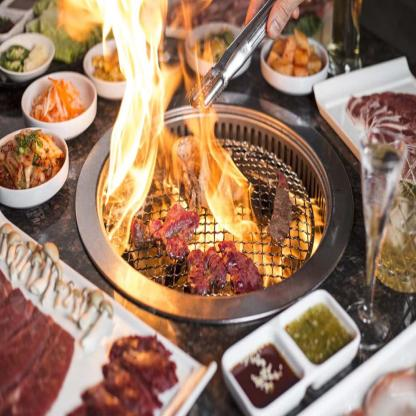fire: (75, 0, 325, 286)
